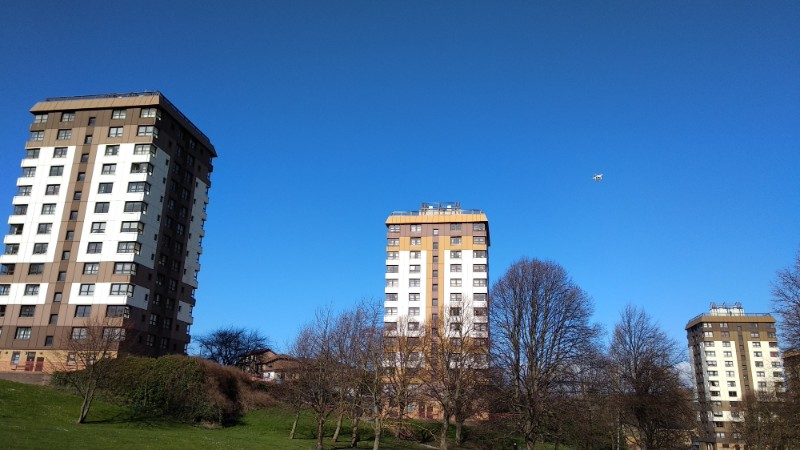drone: (593, 171, 603, 182)
